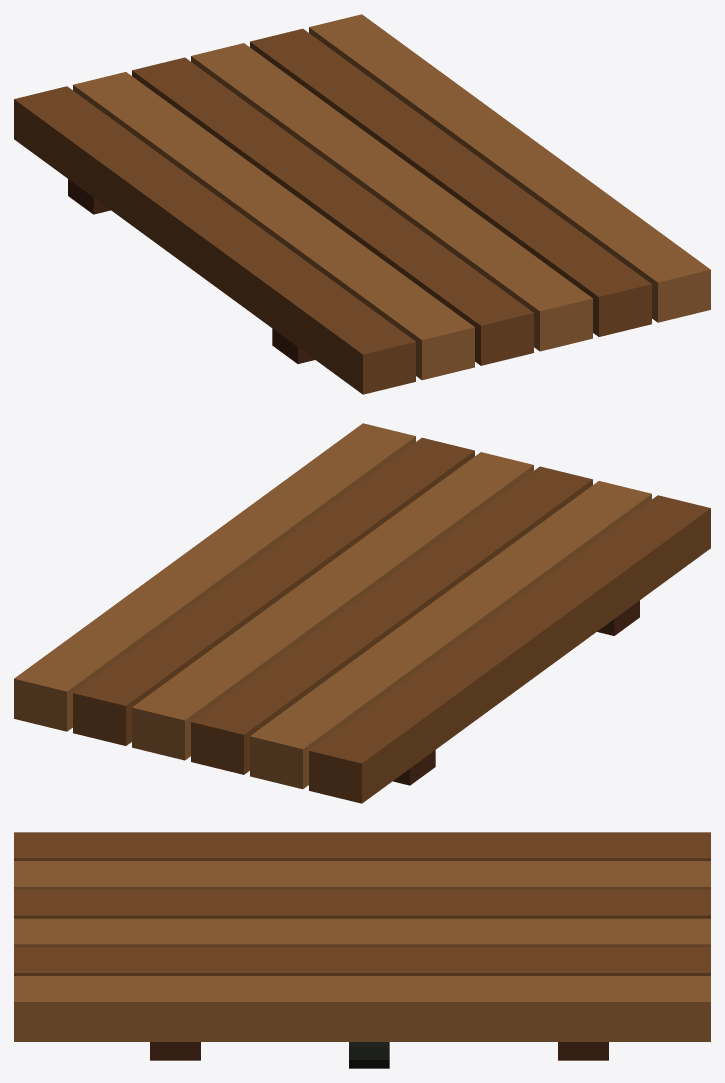
Rendered from SM_RuralDoor.obj.
3 views of the same model, one above another, from view 1: azimuth 30°, elevation 25°; view 2: azimuth 150°, elevation 25°; view 3: azimuth 270°, elevation 25° (orthographic).
Visible parts, largest first — view 1: SM_RuralDoor; view 2: SM_RuralDoor; view 3: SM_RuralDoor.
Part boxes in pixels (<box>): SM_RuralDoor: <box>14,14,710,394</box>; SM_RuralDoor: <box>14,423,710,803</box>; SM_RuralDoor: <box>14,832,710,1068</box>.
Size of the model in its own units: 118 by 28.5 by 205.
